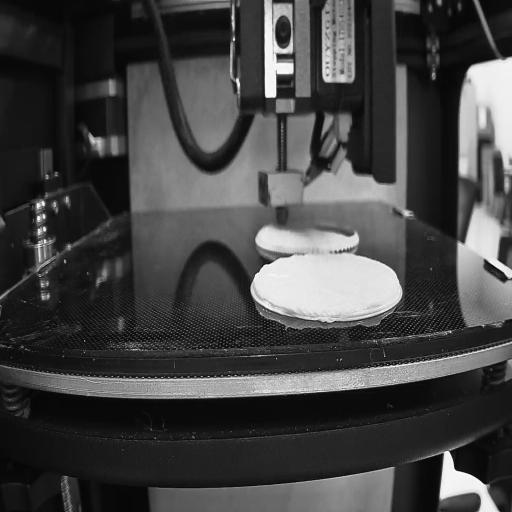over_extrusion: (248, 270, 265, 299)
